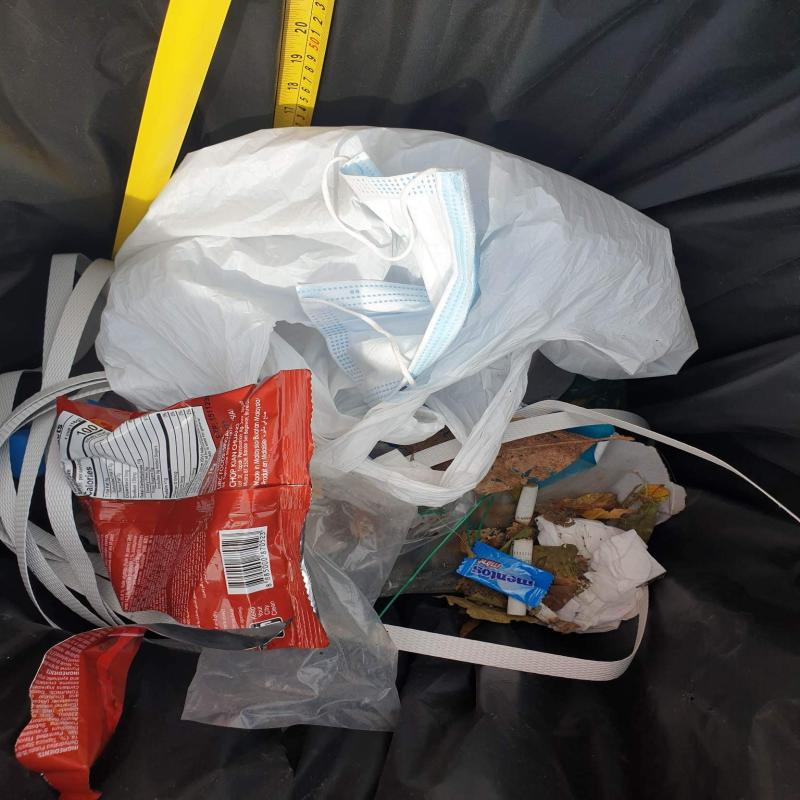facemask: (292, 141, 481, 382)
food wrapper: (10, 363, 333, 800)
plastic bag: (99, 128, 694, 514)
treeleaves: (474, 436, 630, 497), (442, 578, 582, 634), (531, 541, 597, 612), (608, 484, 671, 545), (535, 492, 641, 527), (460, 522, 536, 559)
